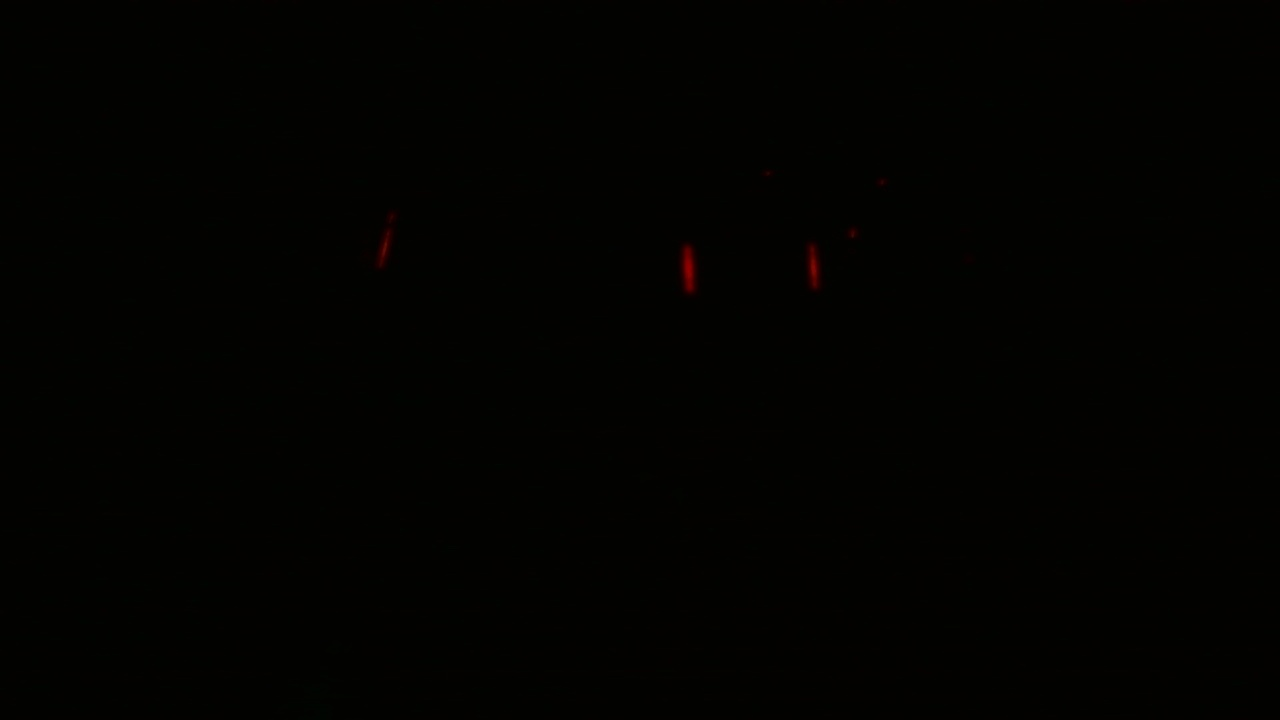pair1: (681, 234, 823, 303)
